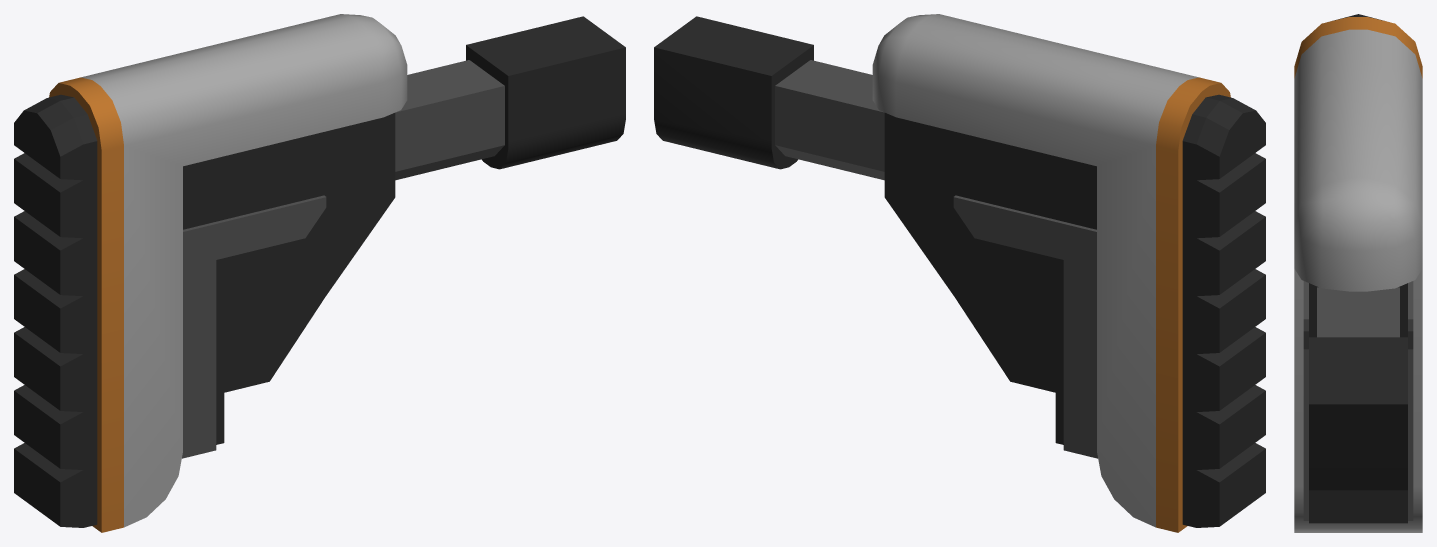
The model's file is quaternius-modular-sci-fi-guns-stock-smg-1.glb.
3 renders of one model, left to right at view 1: azimuth 30°, elevation 25°; view 2: azimuth 150°, elevation 25°; view 3: azimuth 270°, elevation 25°, orthographic. The views are drawn at different scales.
Parts seen in each view (by area): view 1: Stock_SMG_1; view 2: Stock_SMG_1; view 3: Stock_SMG_1.
Part boxes in pixels (box(x1,y1,x2,y2)): Stock_SMG_1: box(14, 14, 625, 532); Stock_SMG_1: box(654, 14, 1265, 532); Stock_SMG_1: box(1294, 14, 1422, 532).
Size of the model in its own units: 0.5782 by 0.413 by 0.097.
